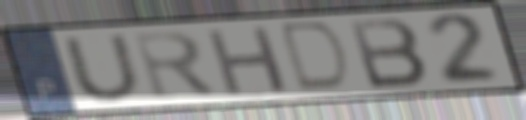2: (422, 11, 505, 89)
B: (344, 16, 432, 92)
D: (279, 19, 353, 94)
H: (203, 23, 293, 98)
R: (128, 28, 222, 103)
U: (58, 31, 147, 104)
